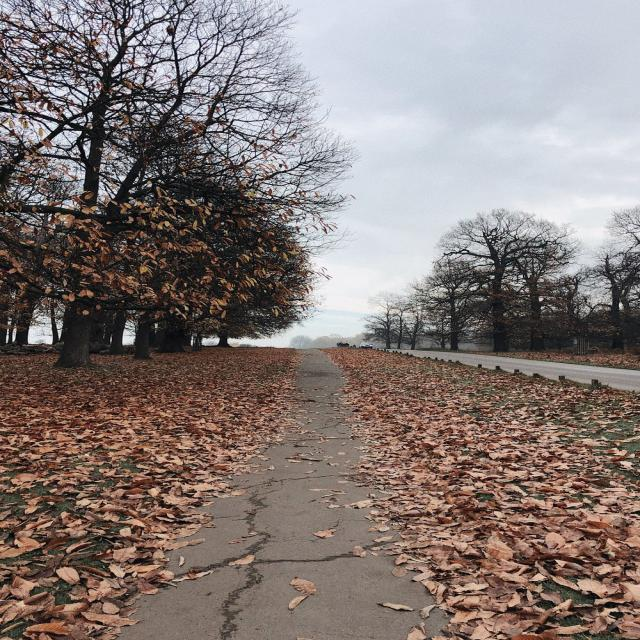organic waste: (413, 487, 636, 580), (5, 401, 200, 507), (365, 405, 558, 476), (61, 203, 178, 307), (125, 362, 288, 396), (440, 585, 539, 639), (112, 551, 166, 585), (5, 356, 50, 394), (335, 347, 374, 365), (56, 566, 88, 586)
